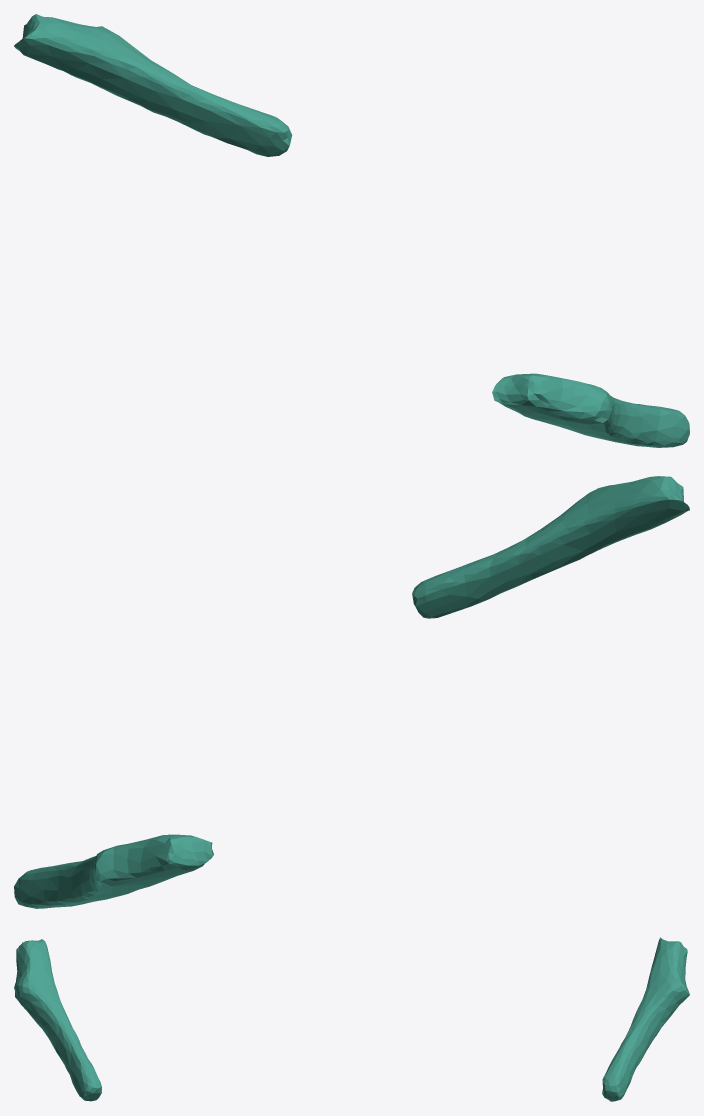
3 views of the same model, one above another, from view 1: azimuth 30°, elevation 25°; view 2: azimuth 150°, elevation 25°; view 3: azimuth 270°, elevation 25° (orthographic). The views are drawn at different scales.
Visible parts, largest first — view 1: 182305697.obj; view 2: 182305697.obj; view 3: 182305697.obj.
Boxes of the visible parts, left/top/right/bottom form: 182305697.obj: left=14, top=14, right=689, bottom=447; 182305697.obj: left=14, top=476, right=689, bottom=908; 182305697.obj: left=14, top=937, right=689, bottom=1101.
Bounding box in the file's own units: 1758 × 1072 × 6625.
